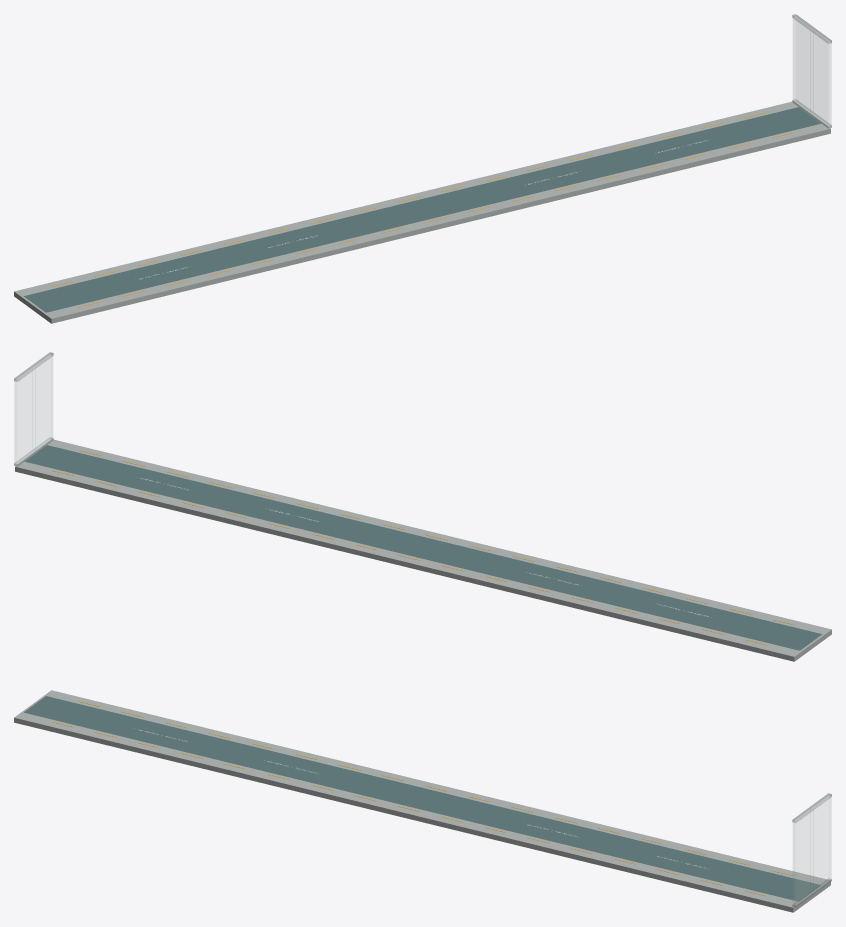
Rendered from fab1-corridor-l1.glb.
3 renders of one model, top to bottom at view 1: azimuth 30°, elevation 25°; view 2: azimuth 150°, elevation 25°; view 3: azimuth 330°, elevation 25°, orthographic.
Visible parts, largest first — view 1: FAB1_L1_Path, FAB1_Corridor_L1_Floor, FAB1_Corridor_L1_EndWall; view 2: FAB1_L1_Path, FAB1_Corridor_L1_Floor, FAB1_Corridor_L1_EndWall; view 3: FAB1_L1_Path, FAB1_Corridor_L1_Floor, FAB1_Corridor_L1_EndWall.
Part boxes in pixels (box(x1,y1,x2,y2)): FAB1_L1_Path: box(23, 107, 820, 312); FAB1_Corridor_L1_Floor: box(14, 101, 830, 323); FAB1_Corridor_L1_EndWall: box(792, 14, 831, 128); FAB1_L1_Path: box(25, 445, 822, 650); FAB1_Corridor_L1_Floor: box(15, 439, 831, 661); FAB1_Corridor_L1_EndWall: box(14, 352, 53, 466); FAB1_L1_Path: box(24, 696, 820, 901); FAB1_Corridor_L1_Floor: box(14, 690, 830, 912); FAB1_Corridor_L1_EndWall: box(792, 793, 831, 907).
Bounding box in the file's own units: 36.08 × 4.07 × 3.
Materials: 3 (1 with a texture image).
